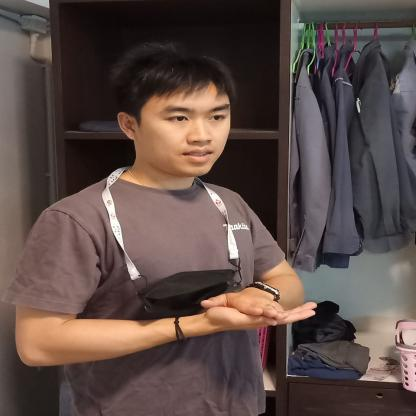Love: (148, 272, 360, 368)
